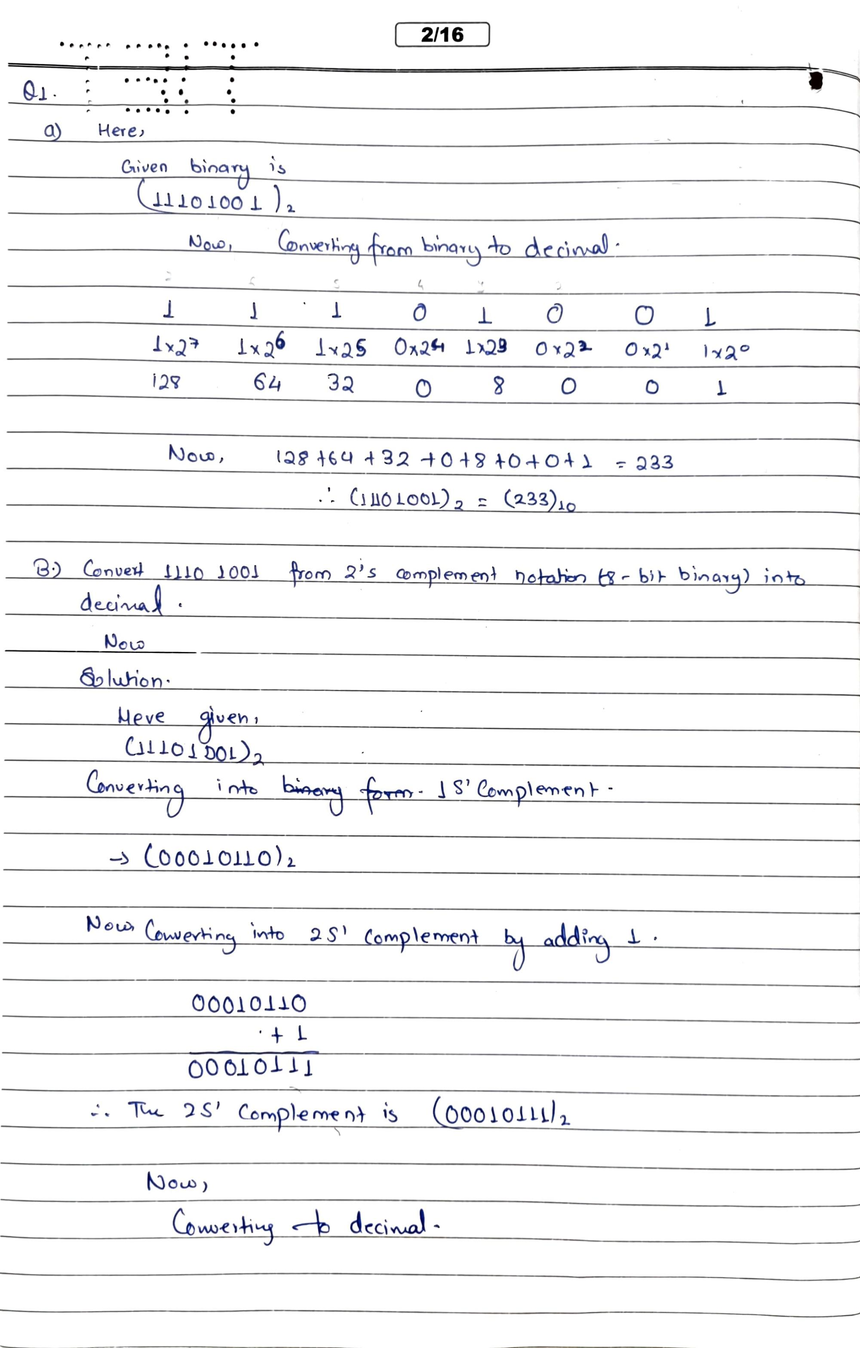cuttings: (282, 774, 344, 816), (359, 776, 414, 815)
